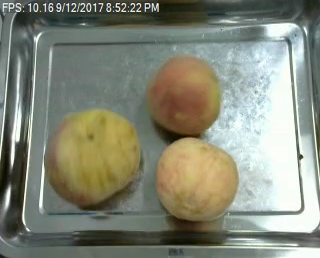Peach: (45, 109, 140, 207), (155, 136, 240, 220), (148, 53, 223, 134)
